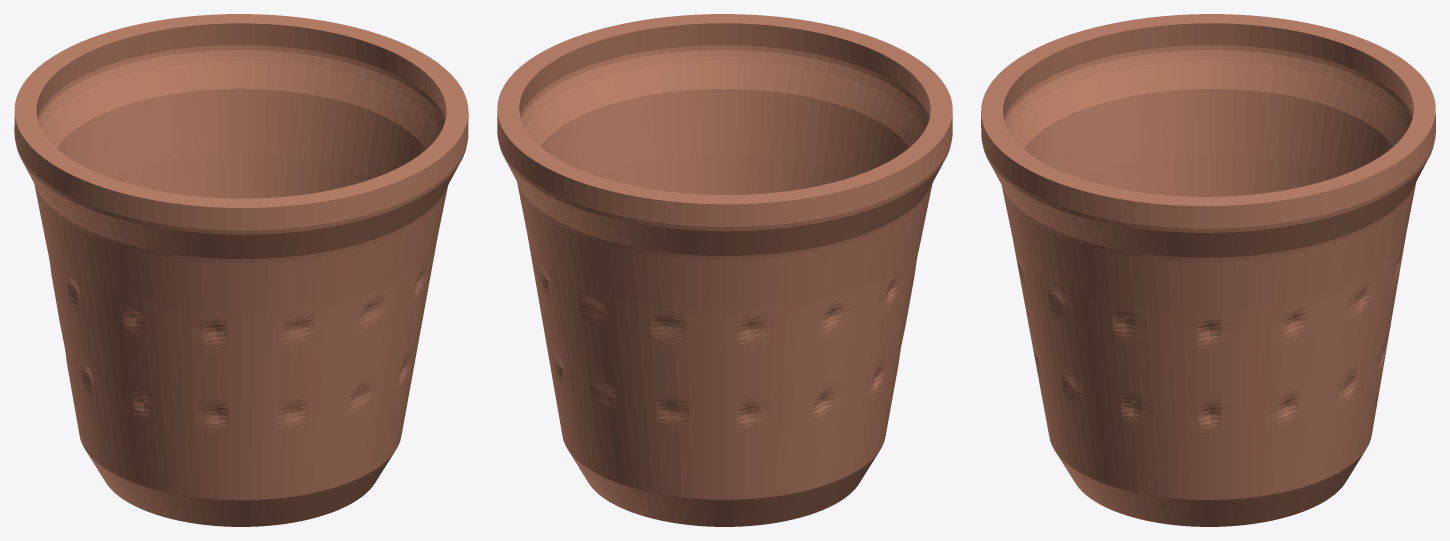
The model's file is Pot_10_Etched_Dot_Band.glb.
3 views of the same model, side by side, from view 1: azimuth 30°, elevation 25°; view 2: azimuth 150°, elevation 25°; view 3: azimuth 270°, elevation 25° (orthographic).
Visible parts, largest first — view 1: Pot_10_Etched_Dot_Band; view 2: Pot_10_Etched_Dot_Band; view 3: Pot_10_Etched_Dot_Band.
Boxes of the visible parts, x1=… form: Pot_10_Etched_Dot_Band: x1=14, y1=14, x2=468, y2=526; Pot_10_Etched_Dot_Band: x1=497, y1=14, x2=952, y2=526; Pot_10_Etched_Dot_Band: x1=981, y1=14, x2=1435, y2=526.
Bounding box in the file's own units: 0.228 × 0.1991 × 0.2281.
